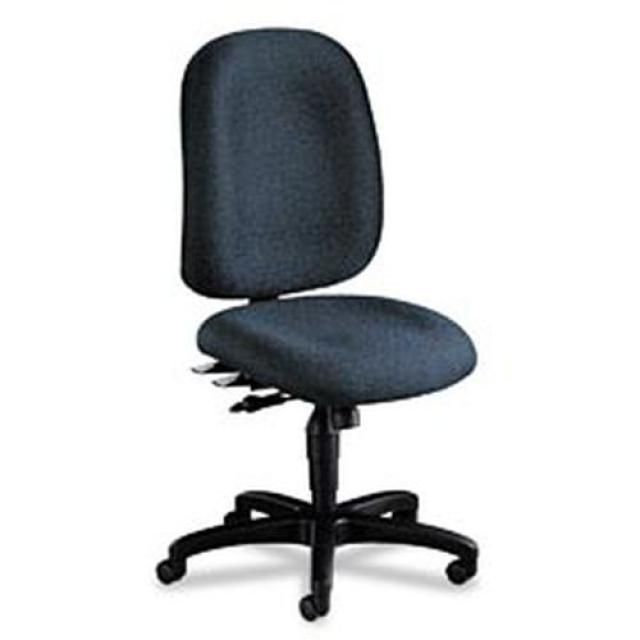swivelchair: (155, 28, 479, 623)
